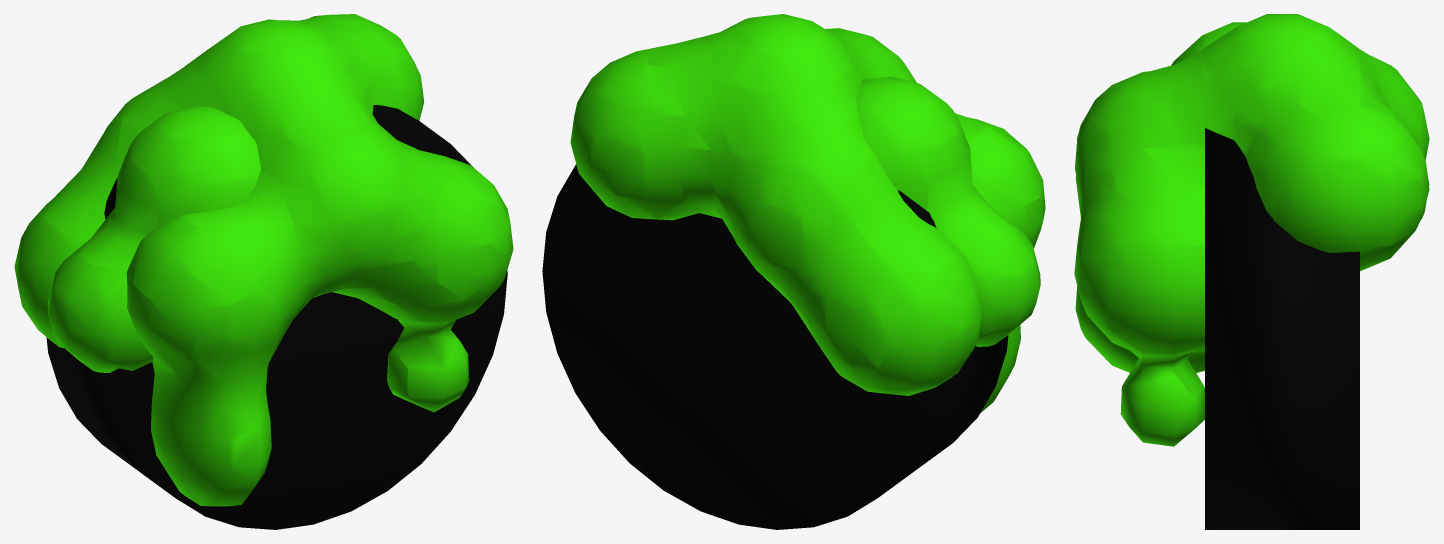
Rendered from sticky_wheel.glb.
3 renders of one model, left to right at view 1: azimuth 30°, elevation 25°; view 2: azimuth 150°, elevation 25°; view 3: azimuth 270°, elevation 25°, orthographic. The views are drawn at different scales.
Parts seen in each view (by area): view 1: Mball.009, Cylinder.003; view 2: Mball.009, Cylinder.003; view 3: Mball.009, Cylinder.003.
Part boxes in pixels (bbox=[...]): Mball.009: bbox=[14, 14, 513, 506]; Cylinder.003: bbox=[46, 105, 507, 529]; Mball.009: bbox=[570, 14, 1045, 413]; Cylinder.003: bbox=[542, 164, 1008, 529]; Mball.009: bbox=[1074, 14, 1429, 446]; Cylinder.003: bbox=[1205, 128, 1359, 529].
Bounding box in the file's own units: 3.32 × 3.45 × 2.29.
